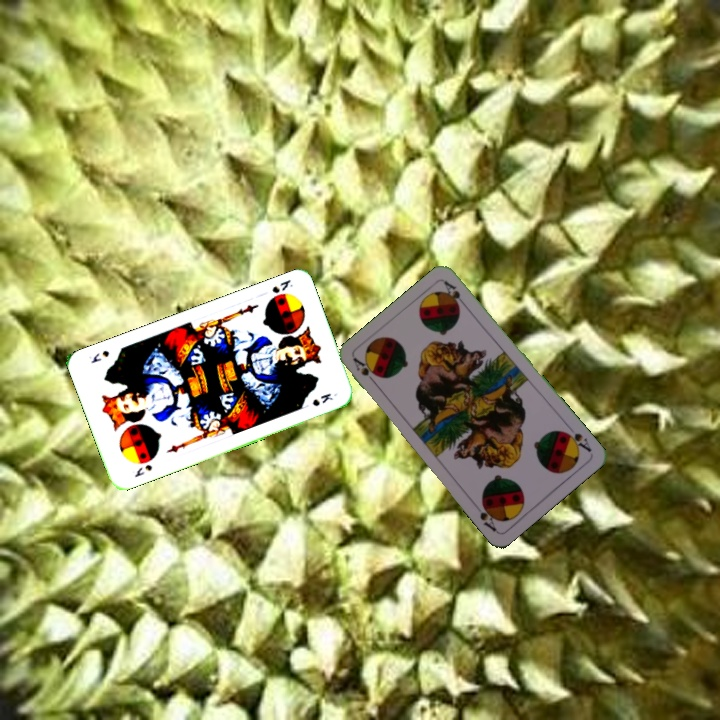SA: (559, 421, 594, 455), (349, 354, 381, 388)
SK: (268, 275, 296, 296), (130, 460, 155, 480)
